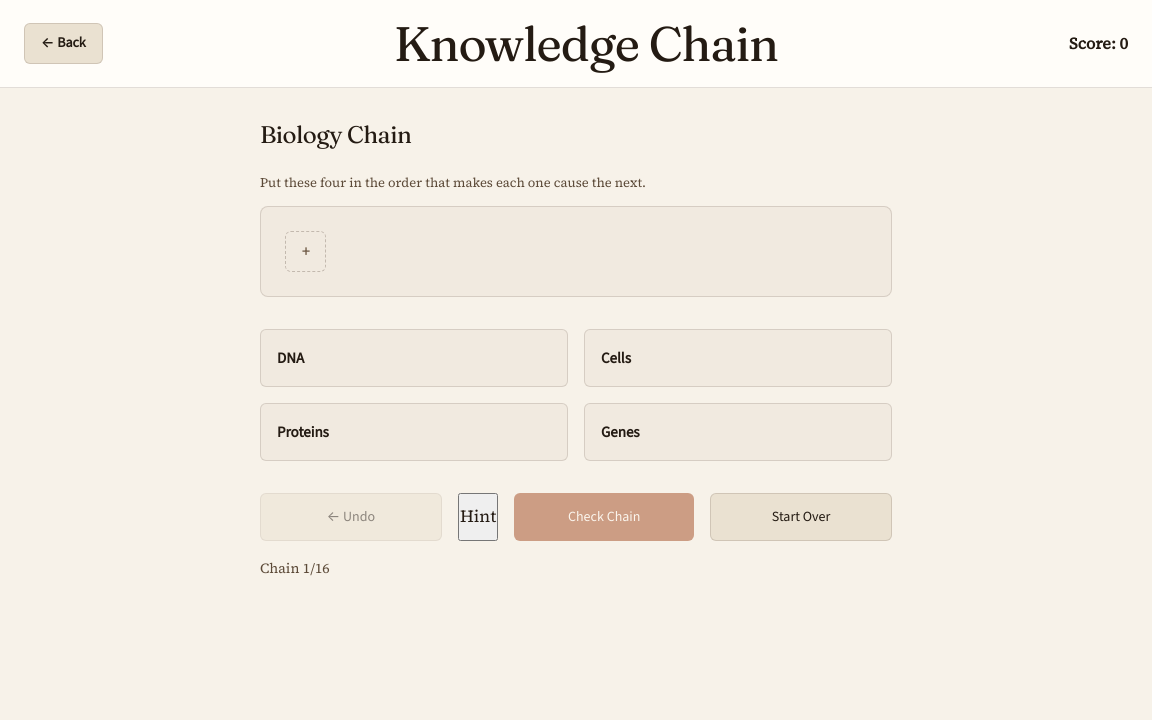
Scenario: Knowledge Chain › the check button stays disabled until all four are chosen
expect the button "Check Chain" is disabled: met, box x1=514 y1=493 x2=694 y2=541
Click the button "DNA" at (291, 358), box x1=260 y1=329 x2=568 y2=387
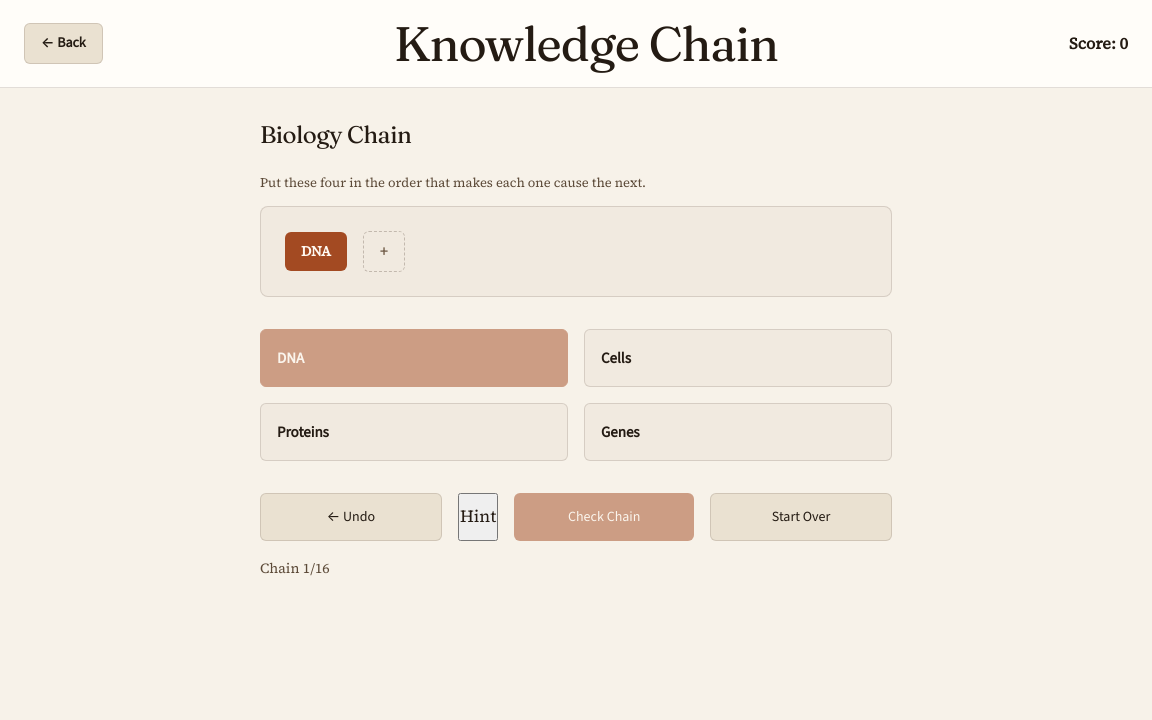
Click the button "Genes" at (620, 432), box x1=584 y1=403 x2=892 y2=461
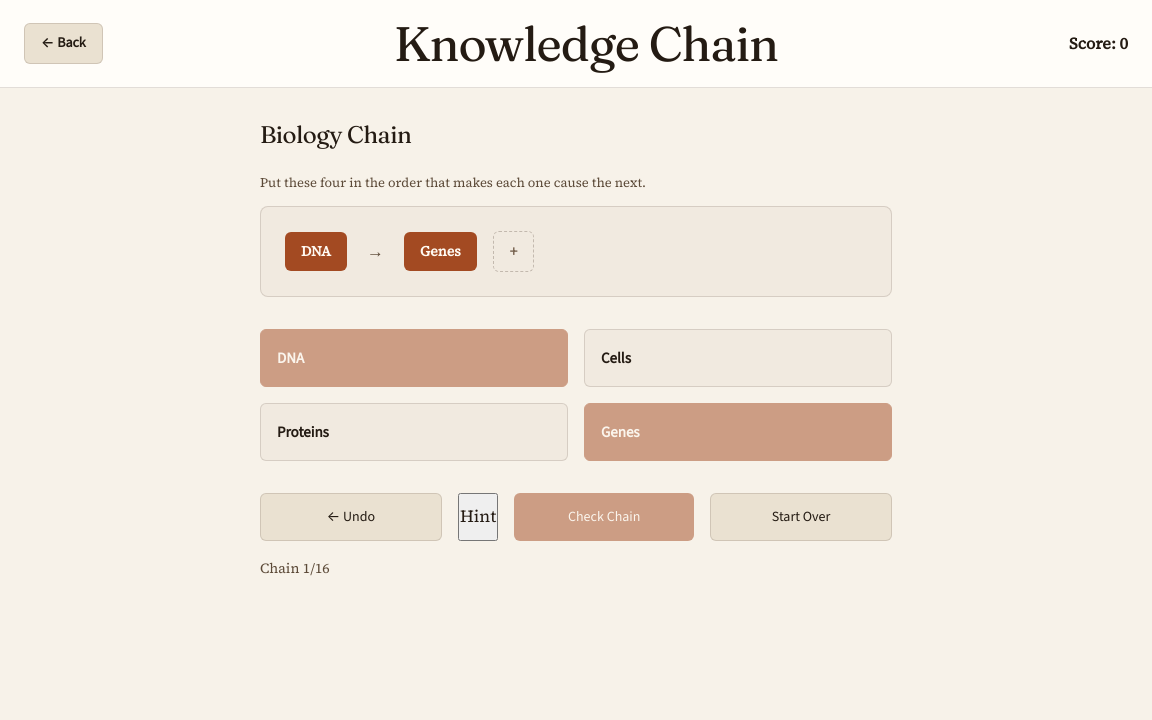
Click the button "Proteins" at (303, 432), box x1=260 y1=403 x2=568 y2=461
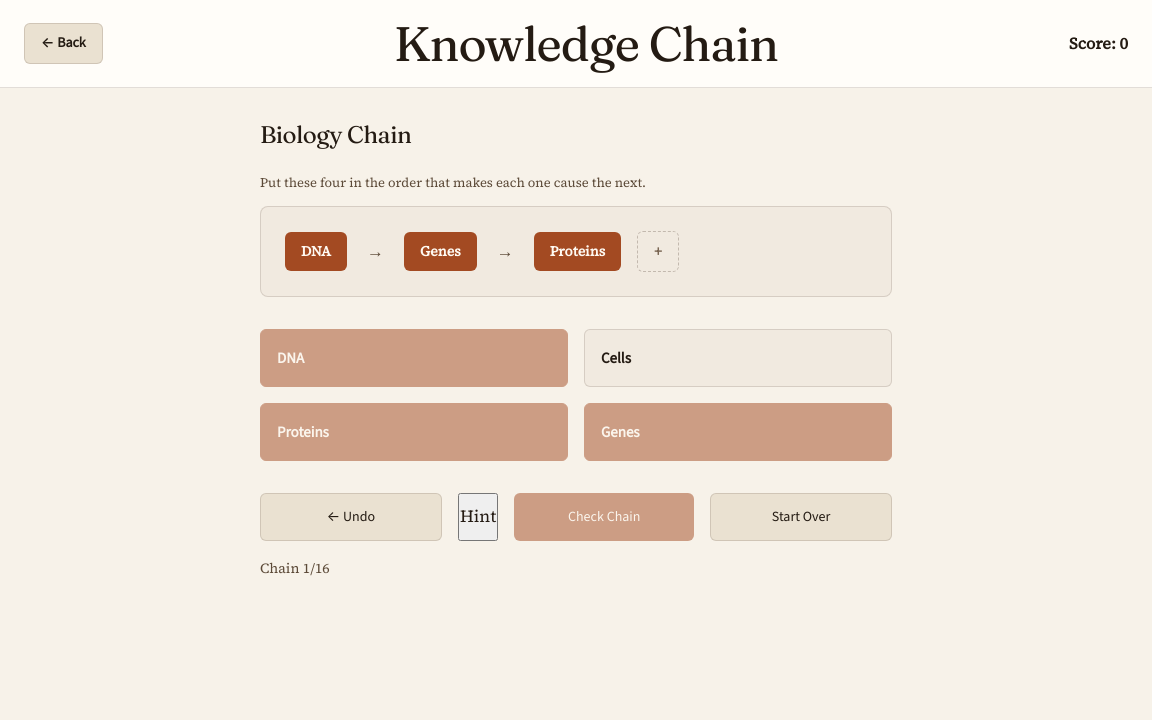
expect the button "Check Chain" is disabled: met, box x1=514 y1=493 x2=694 y2=541
Click the button "Cells" at (616, 358), box x1=584 y1=329 x2=892 y2=387
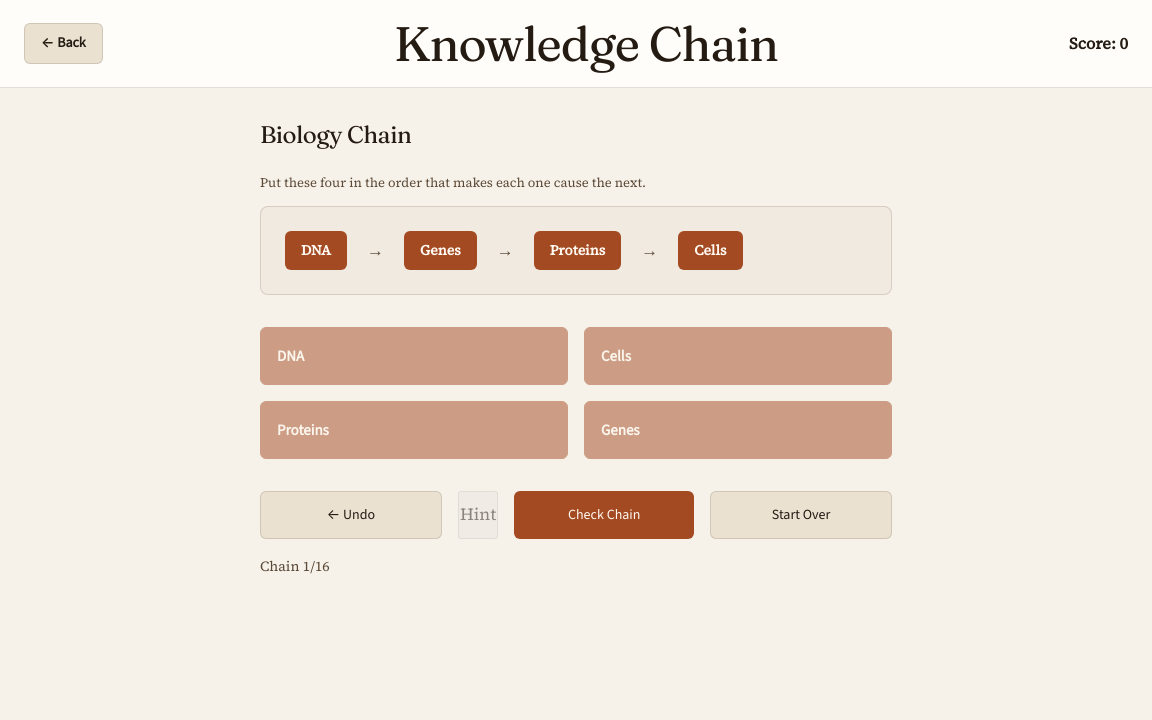
expect the button "Check Chain" is enabled: met, box x1=514 y1=491 x2=694 y2=539
